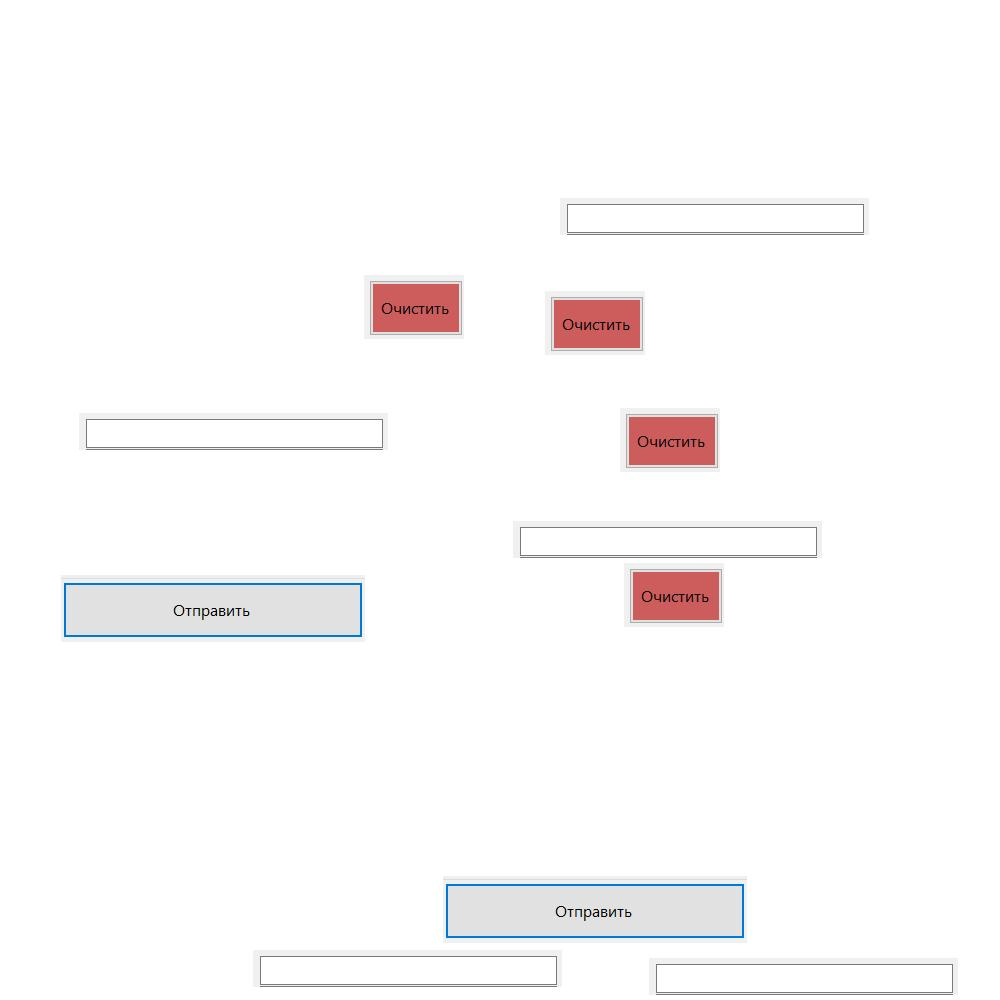Button: (443, 876, 747, 943), (61, 575, 365, 642), (624, 563, 724, 627), (620, 408, 720, 472), (545, 291, 645, 355), (364, 275, 464, 339)
EditText-: (560, 198, 869, 235), (513, 521, 822, 558), (79, 413, 388, 450), (253, 950, 562, 987), (649, 958, 958, 995)
